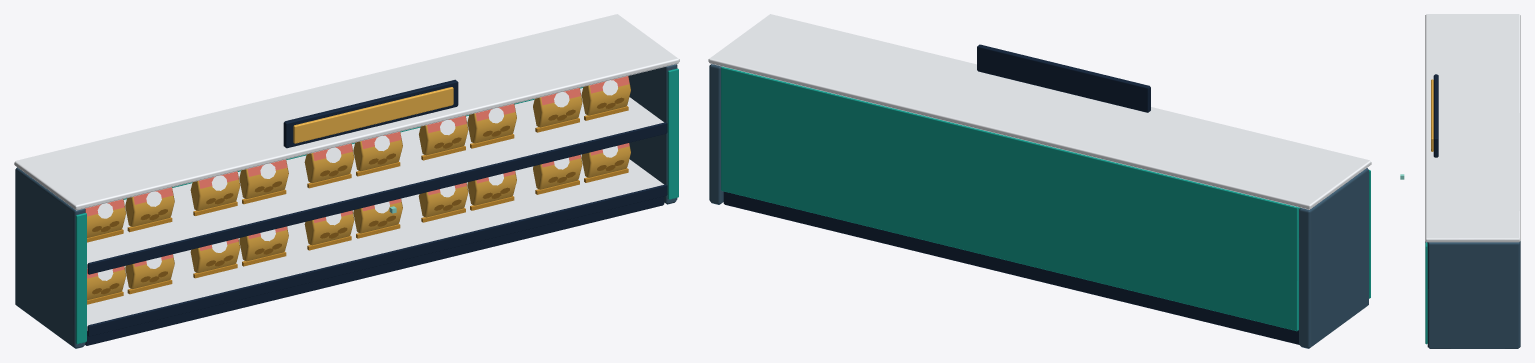
File: CM_Fixture_SnackShelf.fbx
3 views of the same model, side by side, from view 1: azimuth 30°, elevation 25°; view 2: azimuth 150°, elevation 25°; view 3: azimuth 270°, elevation 25° (orthographic). The views are drawn at different scales.
Visible parts, largest first — view 1: Body, Item7, Item8, Item10, Item9, PriceTag, Item6, Item2, Item5, Item4, Item3, Item1; view 2: Body; view 3: Body, PriceTag.
Boxes of the visible parts, box(x1,y1,x2,y2) form: Body: box(14, 14, 679, 348); Item7: box(190, 159, 288, 215); Item8: box(304, 131, 402, 188); Item10: box(533, 76, 630, 132); Item9: box(419, 104, 516, 160); PriceTag: box(293, 87, 453, 143); Item6: box(85, 187, 174, 242); Item2: box(190, 226, 288, 278); Item5: box(533, 143, 630, 194); Item4: box(418, 171, 516, 222); Item3: box(304, 198, 402, 250); Item1: box(87, 254, 174, 304); Body: box(708, 14, 1371, 348); Body: box(1425, 14, 1520, 348); PriceTag: box(1431, 79, 1433, 151).
Size of the model in its own units: 28 by 6.3 by 7.6.
Materials: 1 (1 with a texture image).
